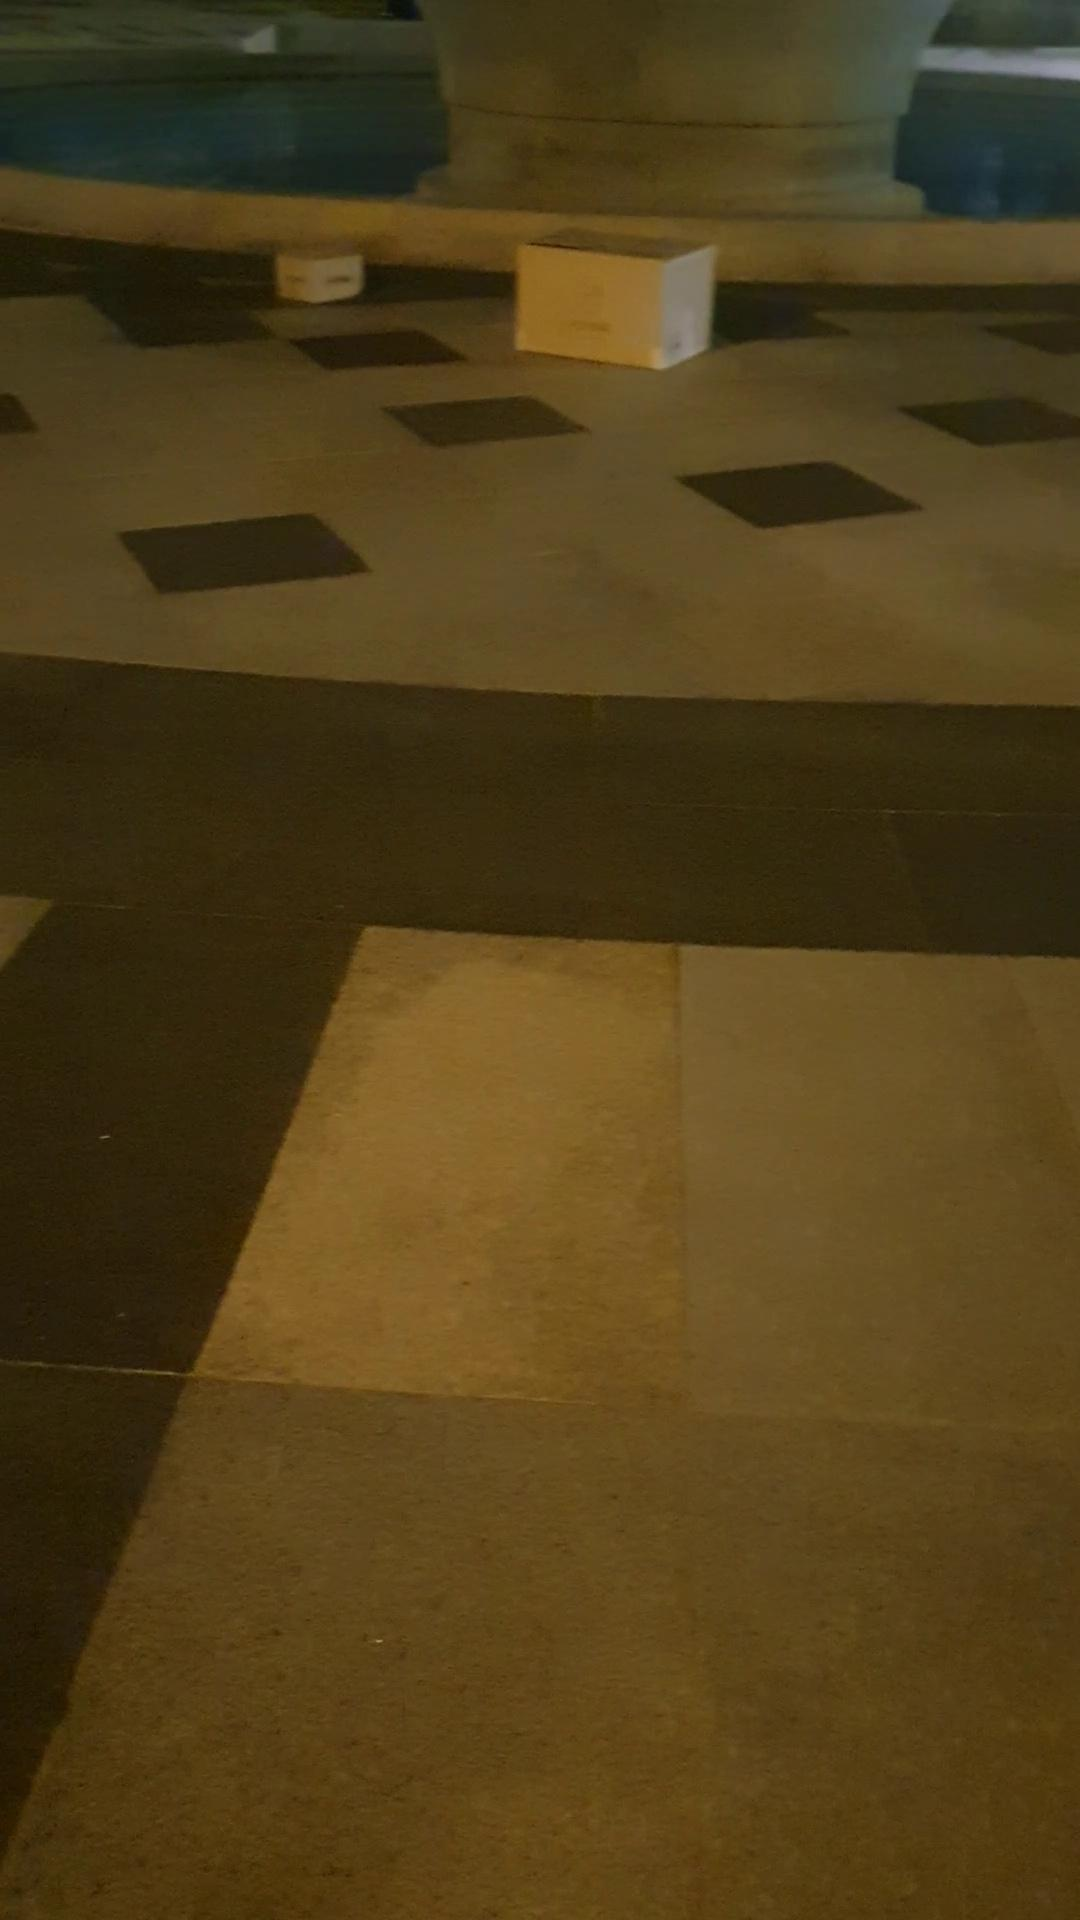Box: (513, 233, 713, 371), (272, 235, 371, 310)
